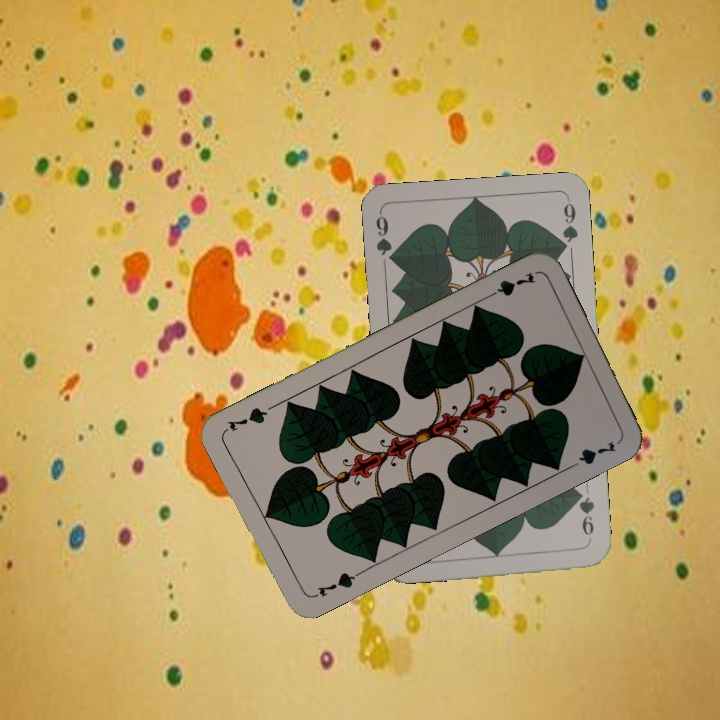G7: (481, 268, 539, 302), (307, 568, 363, 601)
G9: (371, 209, 399, 267), (573, 487, 597, 545)
